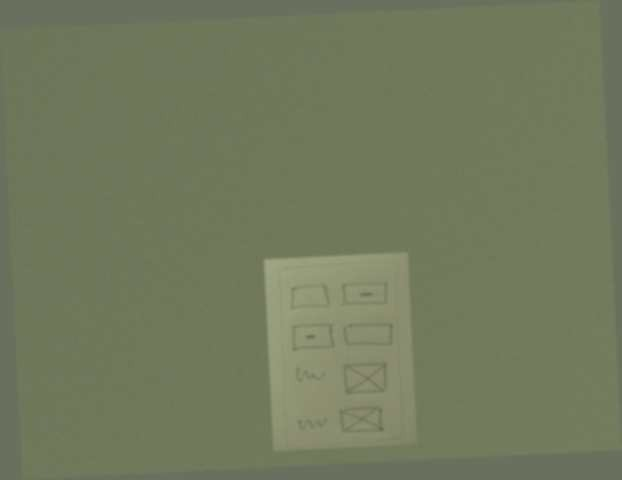button: (337, 278, 390, 310), (289, 322, 338, 354)
image: (339, 361, 391, 398), (336, 403, 386, 438)
text: (292, 363, 330, 387), (296, 414, 330, 434)
text_input: (342, 319, 394, 351), (287, 282, 332, 312)
